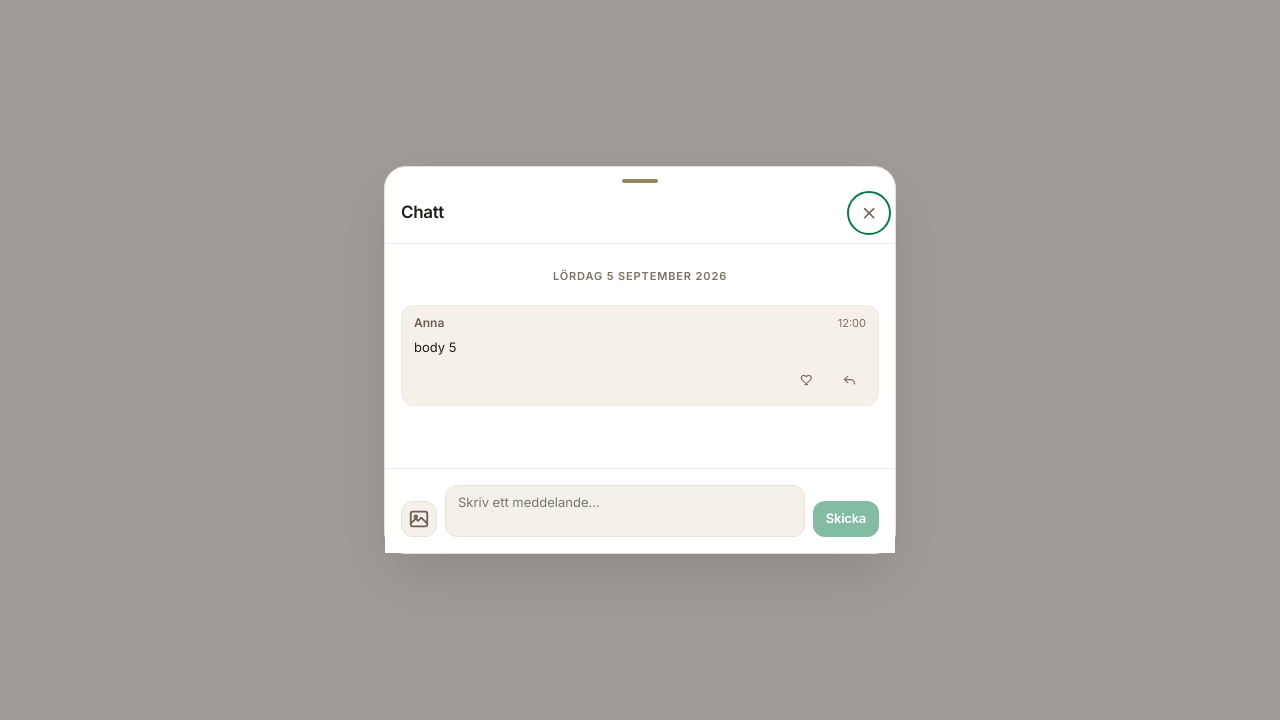
Test: ChatPanel — reply composer mode + quoted replies (Task G) › on a successful reply send the strip and the draft both clear
In the text box: (625, 511) x1=445 y1=485 x2=805 y2=537, type "klart"
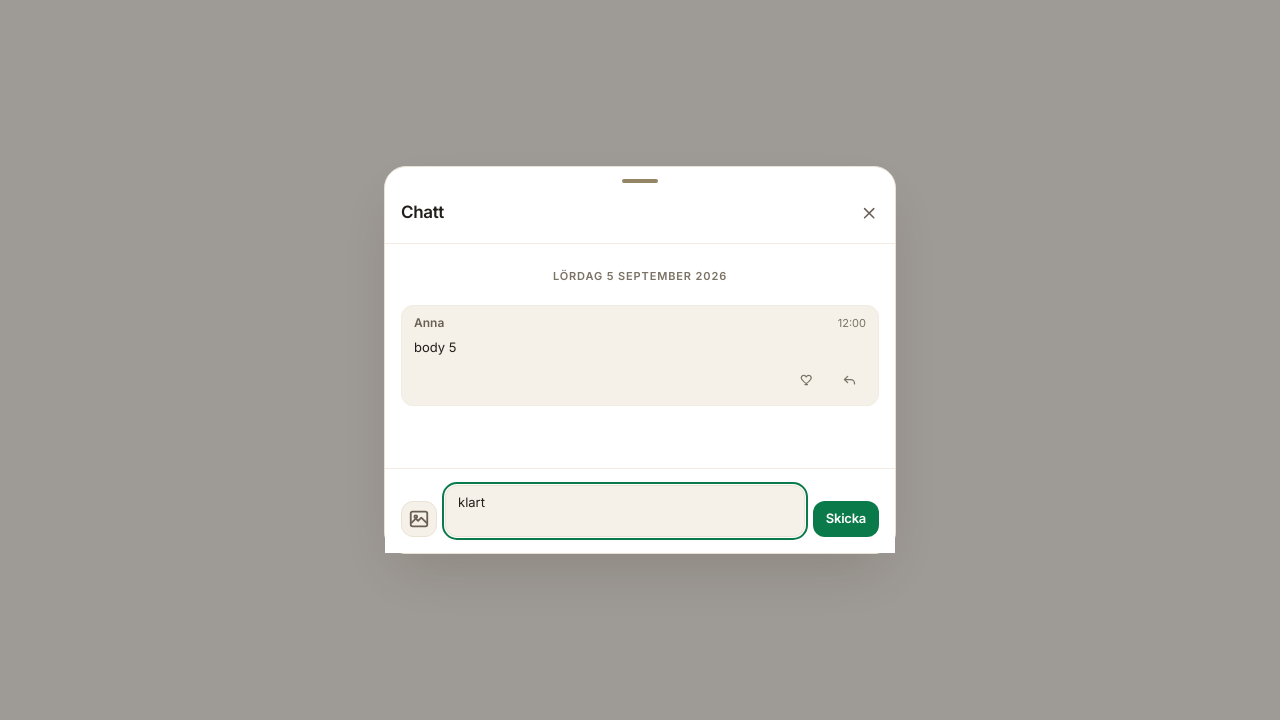
Click the button named "Svara på Annas meddelande": (849, 380) x1=832 y1=363 x2=866 y2=397
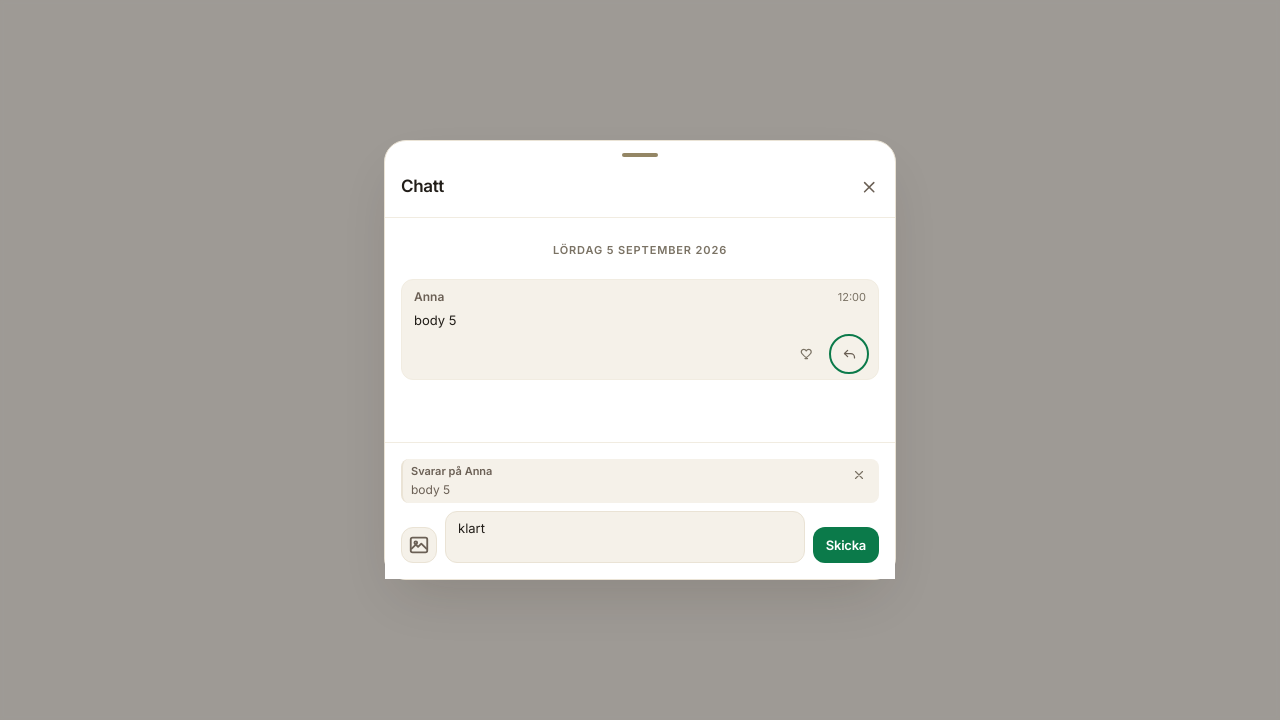
Click the button "Skicka": (846, 545) x1=813 y1=527 x2=879 y2=563
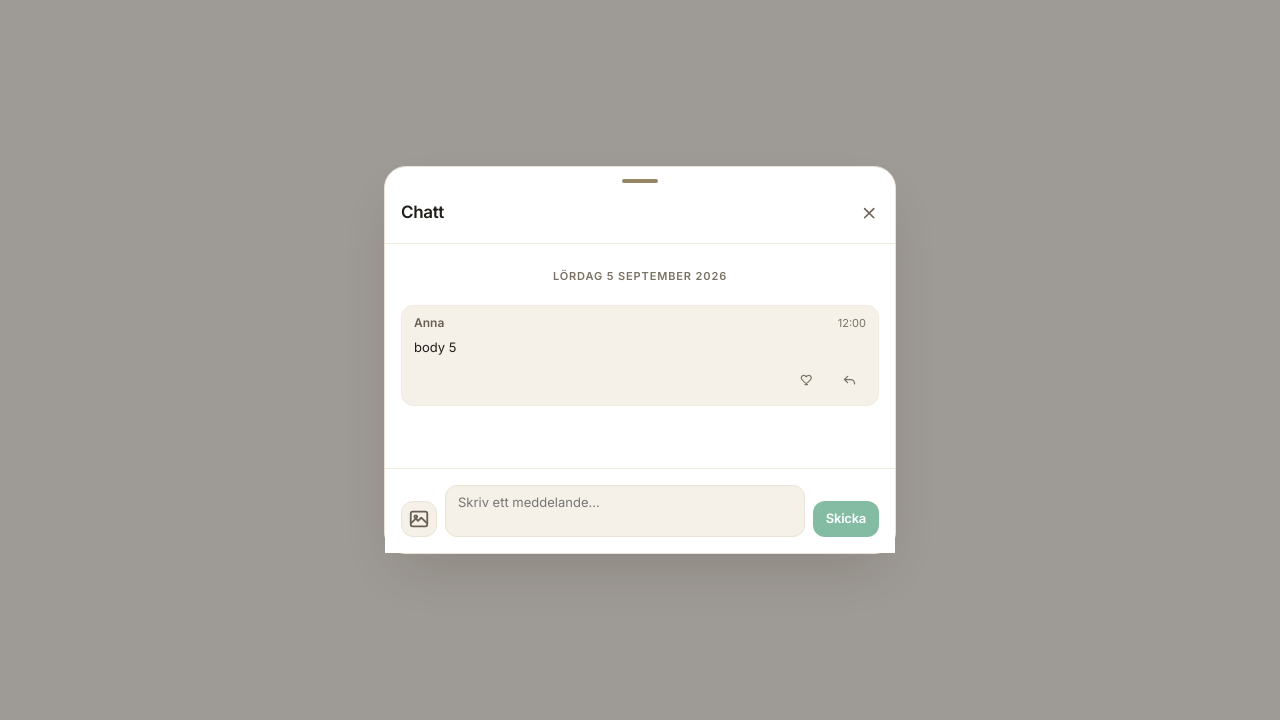
Check: the text "Svarar på Anna" is gone
Check: the text box is empty, box x1=445 y1=485 x2=805 y2=537
